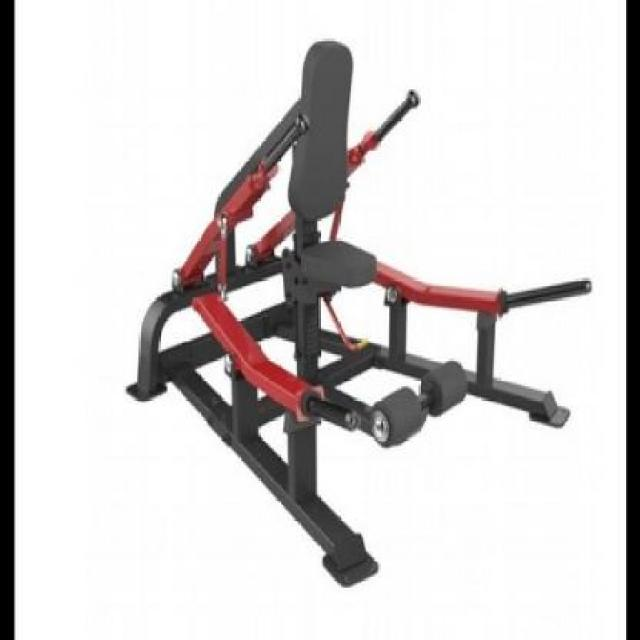seated dip machine: (126, 39, 594, 588)
